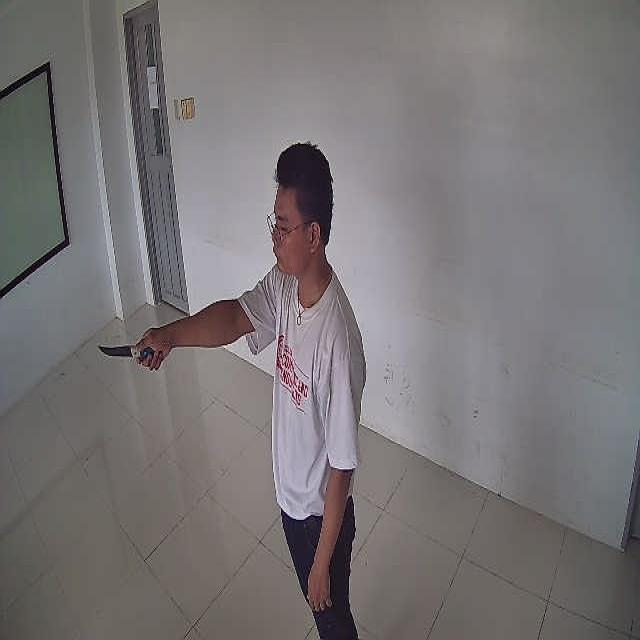knife: (98, 344, 154, 359)
